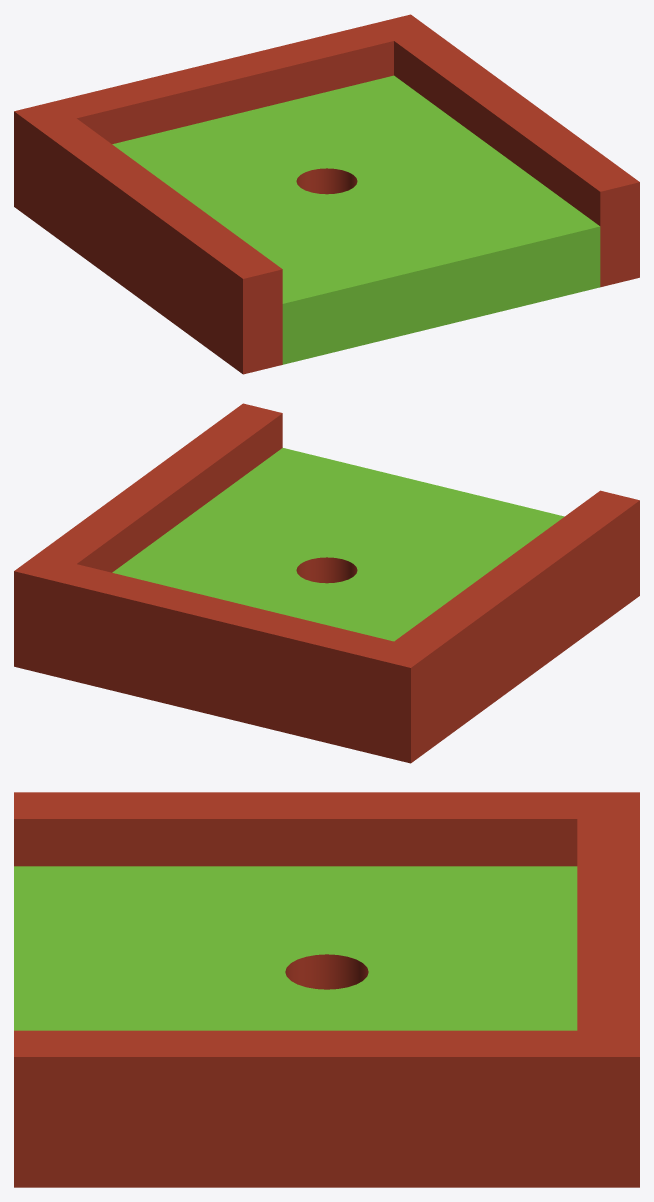
The model's file is Hole_Square.FBX.
3 views of the same model, one above another, from view 1: azimuth 30°, elevation 25°; view 2: azimuth 150°, elevation 25°; view 3: azimuth 270°, elevation 25° (orthographic). The views are drawn at different scales.
Parts seen in each view (by area): view 1: Hole_square_01, Walls; view 2: Walls, Hole_square_01; view 3: Walls, Hole_square_01.
Boxes of the visible parts, x1=… form: Hole_square_01: x1=112, y1=75, x2=600, y2=364; Walls: x1=14, y1=14, x2=639, y2=374; Walls: x1=14, y1=403, x2=639, y2=763; Hole_square_01: x1=112, y1=448, x2=564, y2=641; Walls: x1=14, y1=792, x2=639, y2=1187; Hole_square_01: x1=14, y1=866, x2=577, y2=1030.
Bounding box in the file's own units: 0.9999 × 0.9999 × 0.23.
